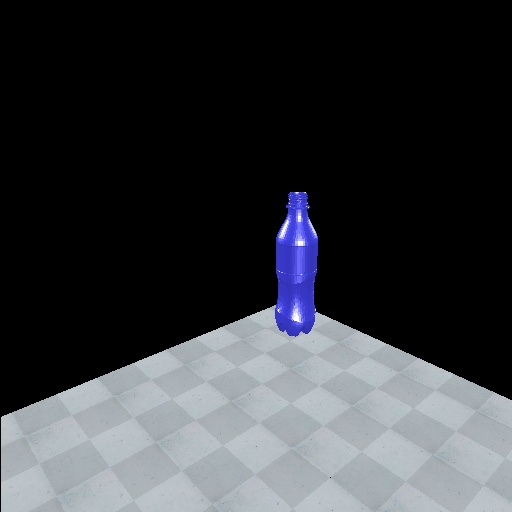bottle: (272, 186, 322, 339)
